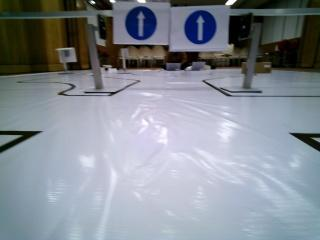straight: (171, 5, 228, 50), (114, 0, 167, 42)
